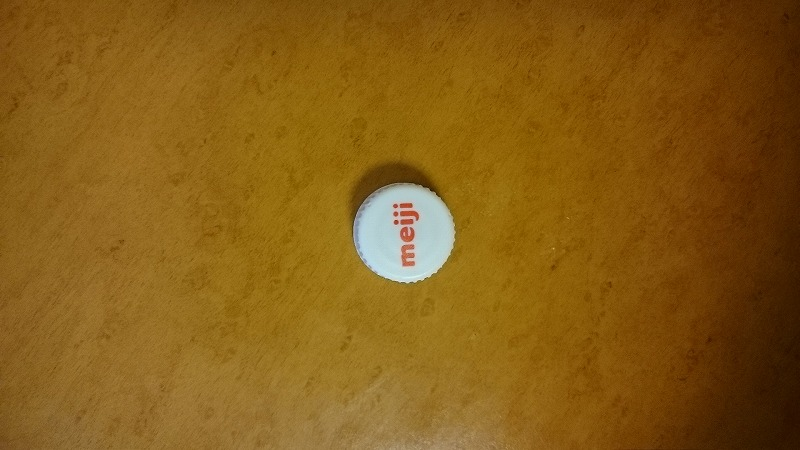B: (349, 178, 463, 292)
